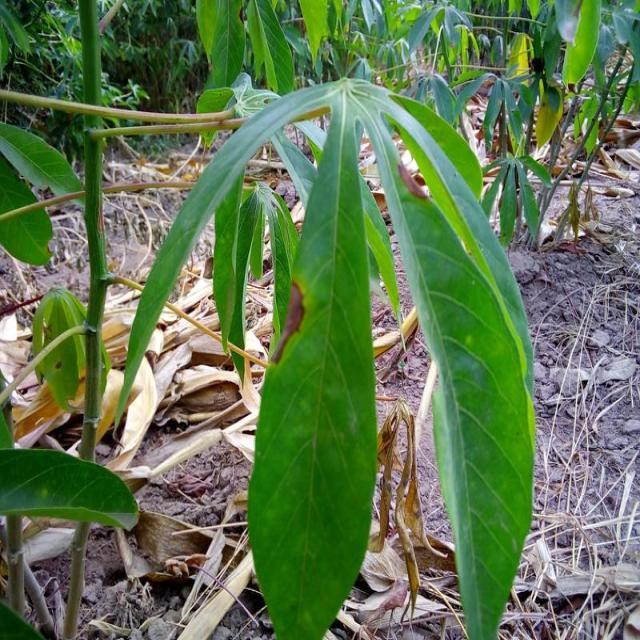cassava leaf: (114, 73, 536, 638)
